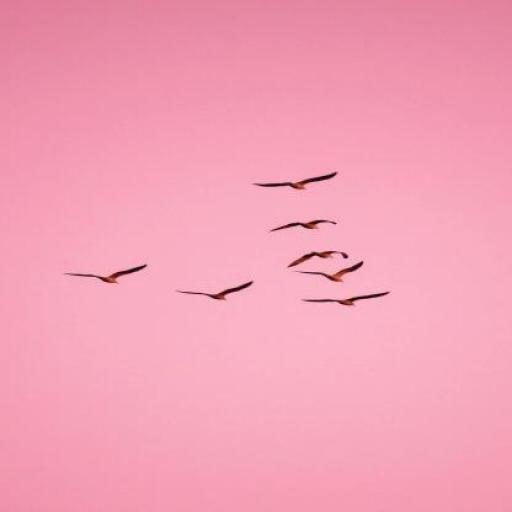bird: (253, 171, 338, 190), (177, 280, 253, 301), (64, 264, 148, 283), (294, 261, 363, 282), (303, 291, 390, 305), (287, 250, 348, 267), (271, 219, 337, 231)
